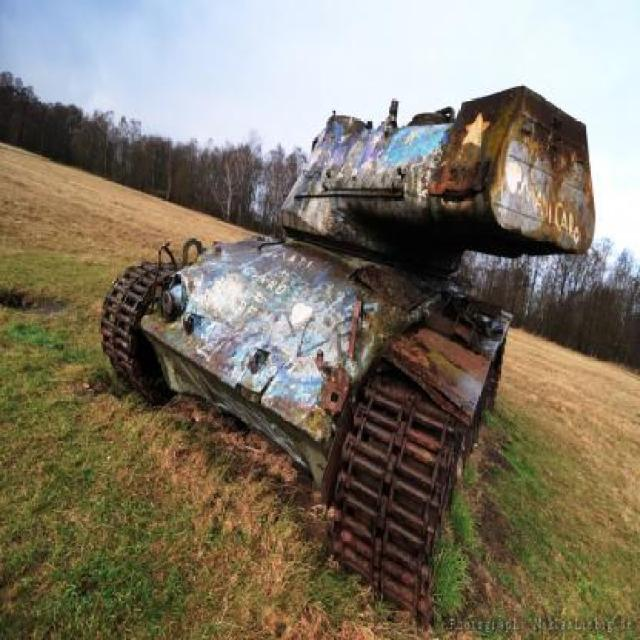corrosion: (99, 89, 598, 628)
